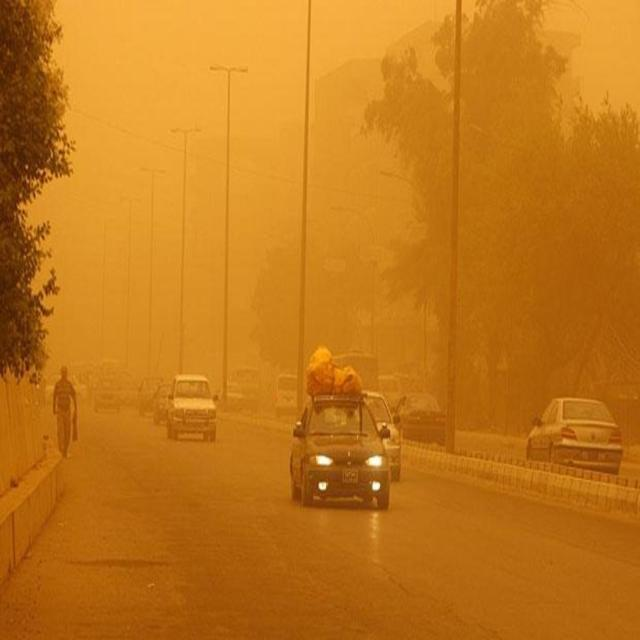Car: (285, 388, 385, 508), (528, 393, 624, 479), (165, 373, 224, 448)
